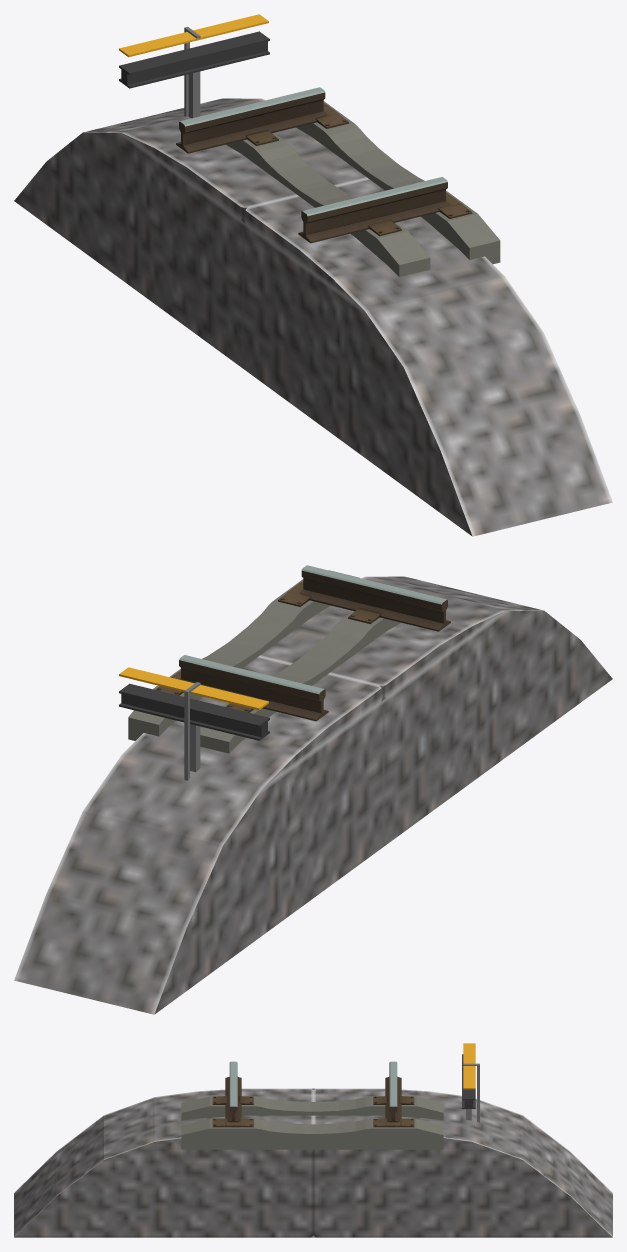
File: spsf_tracks_concrete_ballast2_3rdrail.obj
The picture shows the model from 3 angles, top to bottom: view 1: azimuth 30°, elevation 25°; view 2: azimuth 150°, elevation 25°; view 3: azimuth 270°, elevation 25°; orthographic projection. The views are drawn at different scales.
Visible parts, largest first — view 1: RAIL_BASE.001_Cube.009, RAIL_BASE_Cube.001, RAIL_BASE.006_Cube_Cube.004, RAIL_BASE.004, RAIL_LEFT_Cube.002, RAIL_RIGHT_Cube.010, RAIL_BASE.005_Cube.003; view 2: RAIL_BASE.001_Cube.009, RAIL_BASE_Cube.001, RAIL_BASE.006_Cube_Cube.004, RAIL_BASE.004, RAIL_LEFT_Cube.002, RAIL_RIGHT_Cube.010, RAIL_BASE.005_Cube.003; view 3: RAIL_BASE.001_Cube.009, RAIL_BASE.006_Cube_Cube.004, RAIL_BASE_Cube.001, RAIL_BASE.005_Cube.003, RAIL_BASE.004, RAIL_LEFT_Cube.002, RAIL_RIGHT_Cube.010.
Part boxes in pixels (left/top/right/bottom): RAIL_BASE.001_Cube.009: left=14, top=98, right=612, bottom=536; RAIL_BASE_Cube.001: left=122, top=99, right=504, bottom=310; RAIL_BASE.006_Cube_Cube.004: left=226, top=101, right=500, bottom=277; RAIL_BASE.004: left=119, top=14, right=269, bottom=118; RAIL_LEFT_Cube.002: left=298, top=177, right=448, bottom=243; RAIL_RIGHT_Cube.010: left=176, top=87, right=326, bottom=153; RAIL_BASE.005_Cube.003: left=246, top=103, right=472, bottom=236; RAIL_BASE.001_Cube.009: left=14, top=576, right=612, bottom=1014; RAIL_BASE_Cube.001: left=122, top=577, right=504, bottom=788; RAIL_BASE.006_Cube_Cube.004: left=128, top=570, right=429, bottom=753; RAIL_BASE.004: left=119, top=667, right=269, bottom=780; RAIL_LEFT_Cube.002: left=300, top=565, right=450, bottom=631; RAIL_RIGHT_Cube.010: left=179, top=655, right=328, bottom=721; RAIL_BASE.005_Cube.003: left=155, top=581, right=380, bottom=712; RAIL_BASE.001_Cube.009: left=14, top=1097, right=612, bottom=1237; RAIL_BASE.006_Cube_Cube.004: left=181, top=1096, right=443, bottom=1149; RAIL_BASE_Cube.001: left=154, top=1088, right=472, bottom=1141; RAIL_BASE.005_Cube.003: left=212, top=1096, right=414, bottom=1127; RAIL_BASE.004: left=462, top=1043, right=479, bottom=1122; RAIL_LEFT_Cube.002: left=225, top=1061, right=241, bottom=1121; RAIL_RIGHT_Cube.010: left=385, top=1061, right=401, bottom=1121.
Size of the model in its own units: 1.11 by 1.58 by 5.66.
3 materials, 3 textured.
